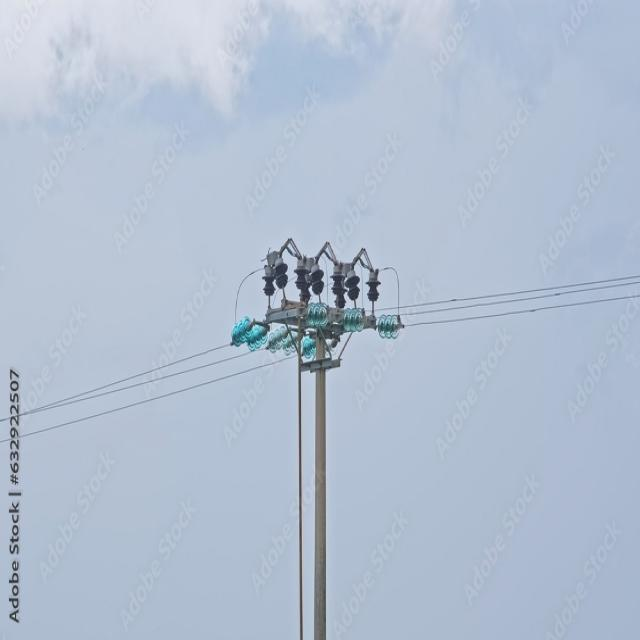insulator: (379, 311, 416, 349), (225, 310, 255, 350), (299, 298, 332, 326)
